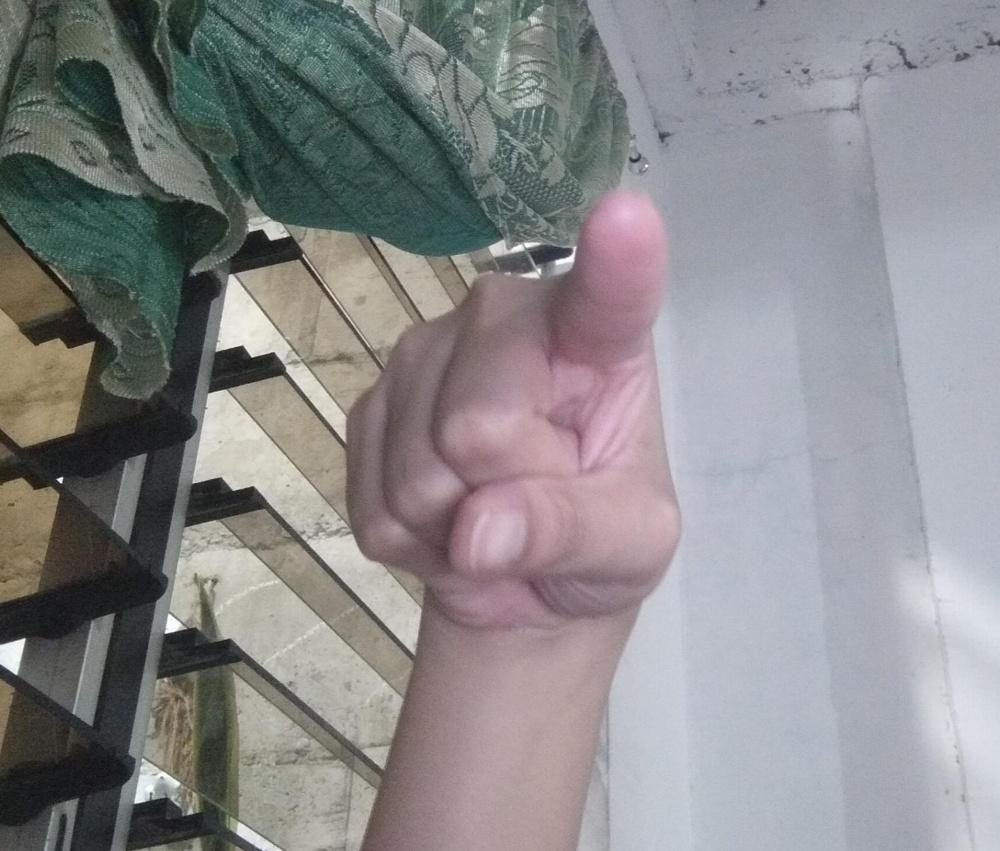z: (341, 185, 687, 626)
